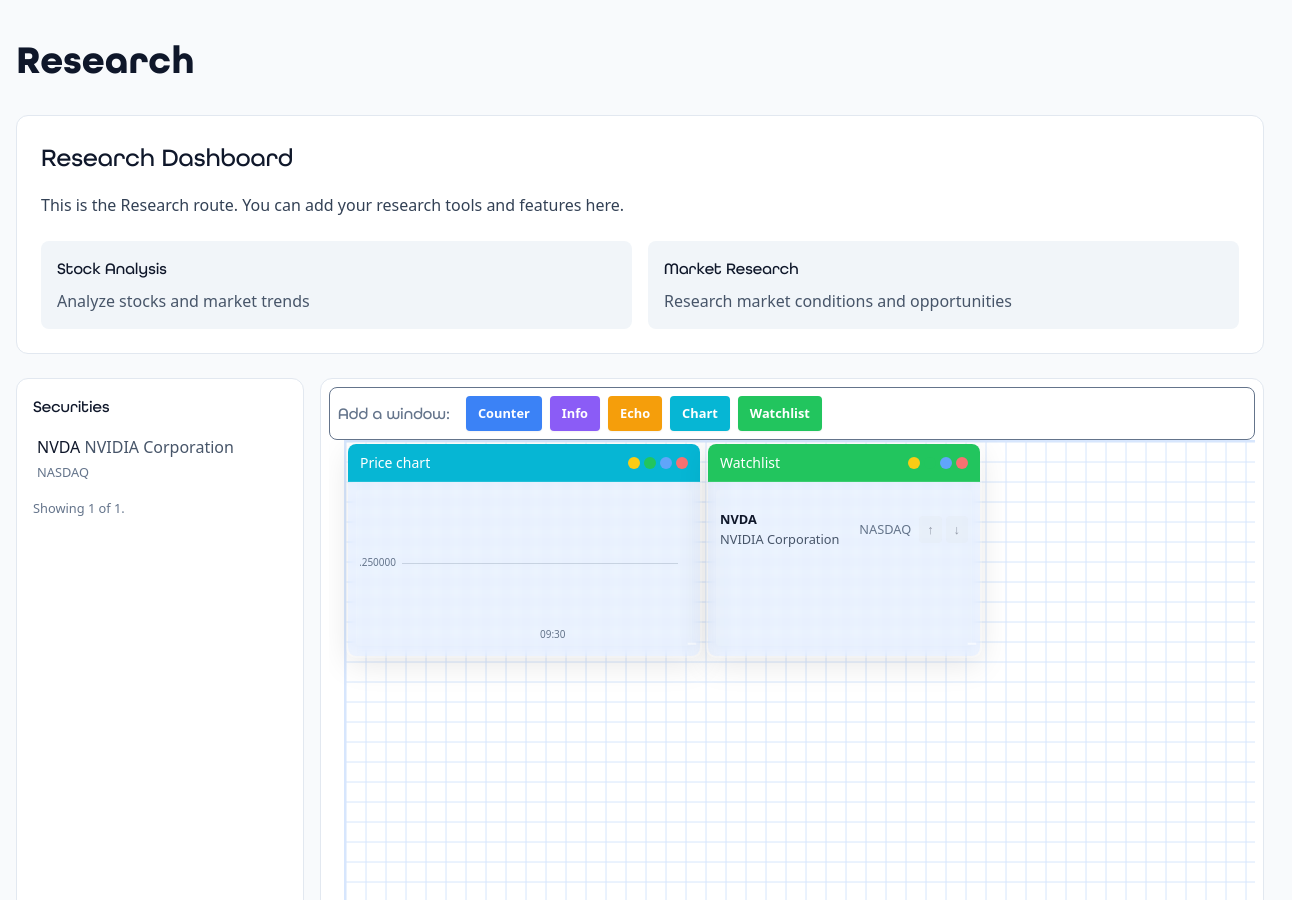
Test case: opening a chart for a picked security (WIRING for the mount, REAL for the request) › charts the security that was clicked, keyed on its id
This screenshot has width=1292, height=900.
What coordinates should you click on to do the following:
click the button with aria-label "Open NVDA price chart"
I would click on:
 (160, 459)
Its box is x1=33 y1=427 x2=287 y2=491.
(page scrolled)
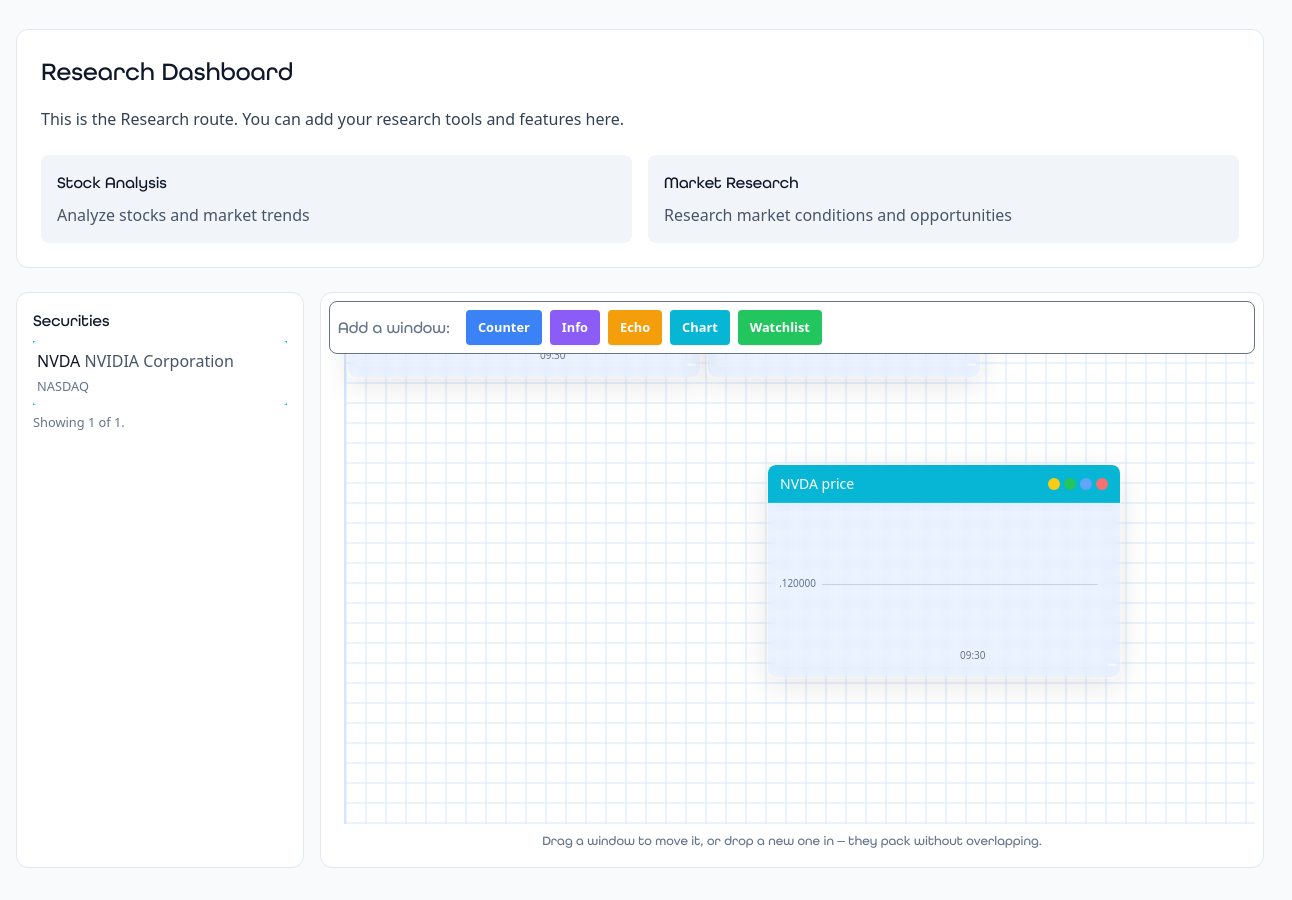
Expected: the element named "NVDA price chart" is shown, x1=780 y1=515 x2=1108 y2=663
